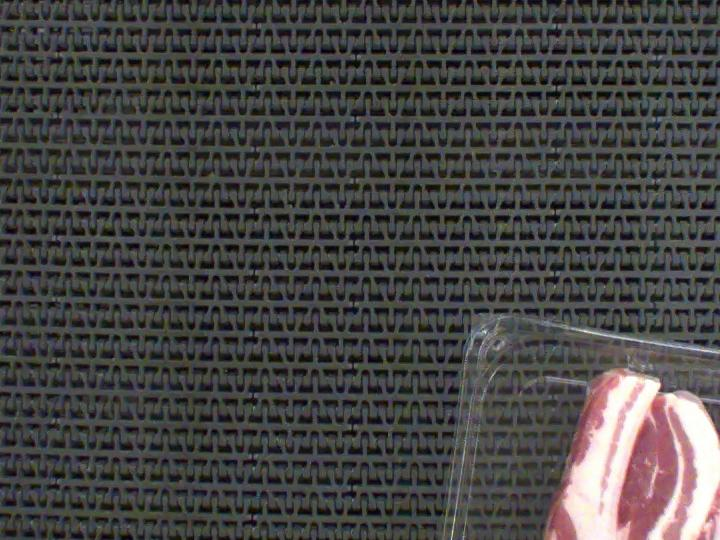packaging-error: (620, 344, 659, 379)
